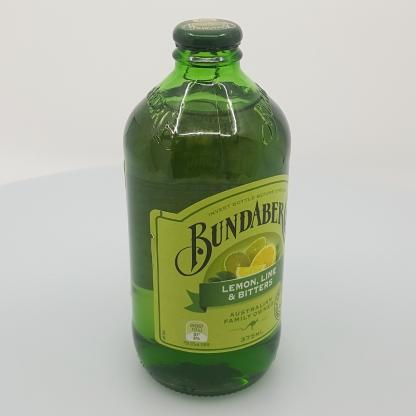------------375ML: (122, 18, 291, 397)
